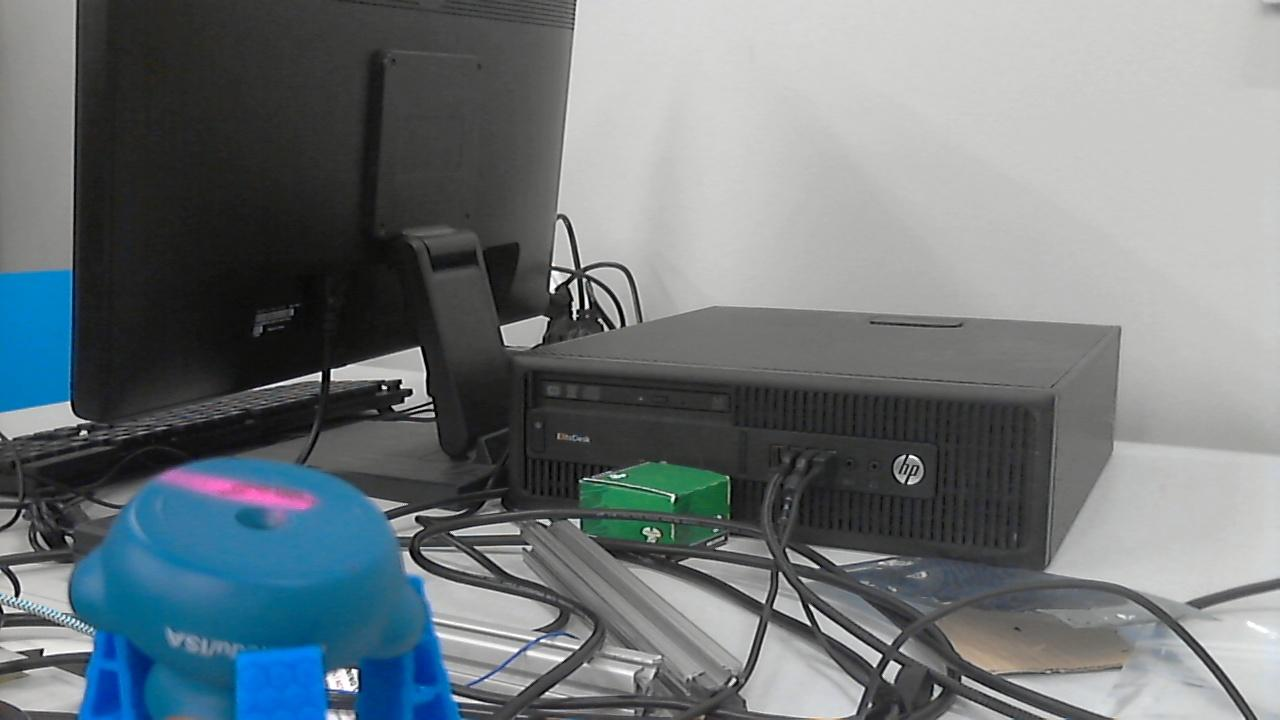Object rubber duck - Material rubber -Color blue - Pdfname BWuUnwTLudUE: (134, 457, 328, 525)
